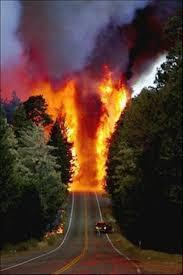fire: (17, 67, 133, 191)
